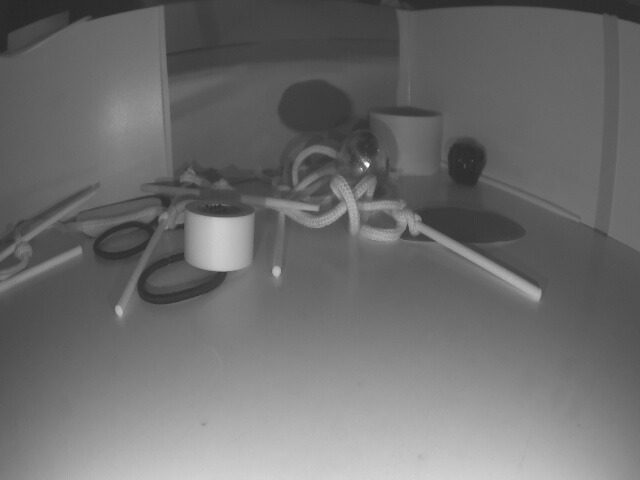Dead: (448, 138, 486, 185)
Live: (341, 130, 387, 195)
